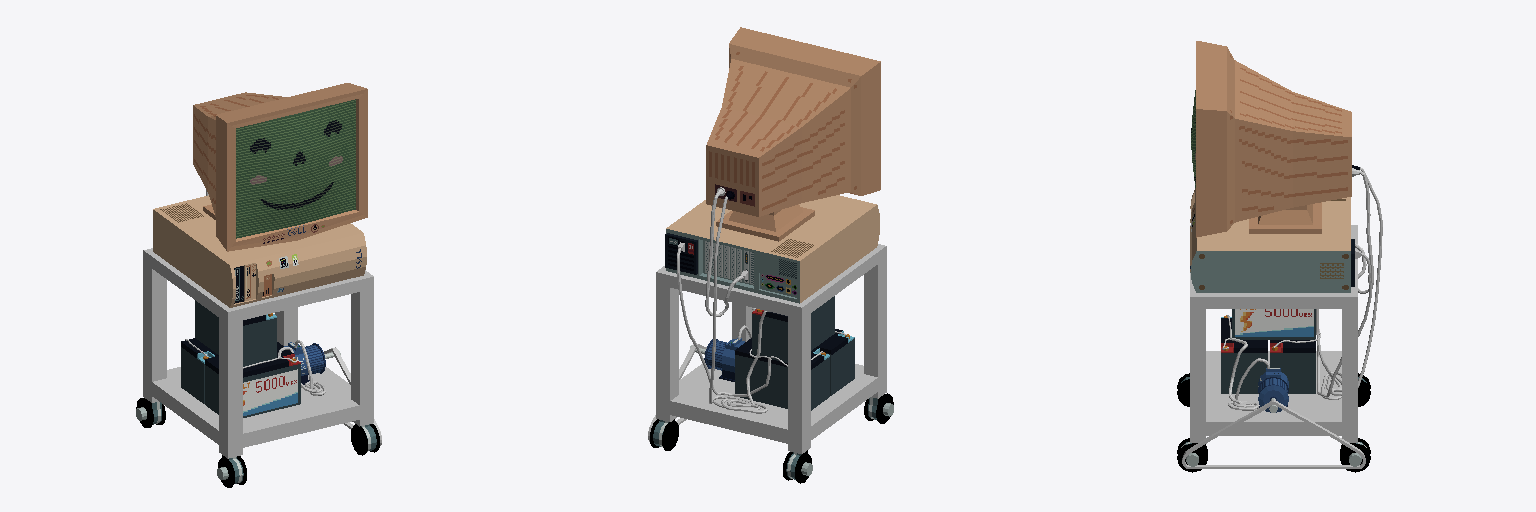
The picture shows the model from 3 angles: view 1: azimuth 30°, elevation 25°; view 2: azimuth 150°, elevation 25°; view 3: azimuth 270°, elevation 25°; orthographic projection.
Visible parts, largest first — view 1: Cart_Cube.001, Screen_Cube.007, Computer_Cube.005, Monitor_Cube, Battery_Cube.002, Battery.002_Cube.002, Casters_Cylinder.002, Battery.001_Cube.002, Motor_Cylinder.001, Cabnle_Plane; view 2: Monitor_Cube, Cart_Cube.001, Computer_Cube.005, Battery.001_Cube.002, Cabnle_Plane, Battery.002_Cube.002, Casters_Cylinder.002, Battery_Cube.002, Motor_Cylinder.001; view 3: Monitor_Cube, Cart_Cube.001, Computer_Cube.005, Cabnle_Plane, Battery.002_Cube.002, Battery_Cube.002, Battery.001_Cube.002, Casters_Cylinder.002, Chain_Cube.004, Motor_Cylinder.001.
Boxes of the visible parts, x1,y1,x2,y2 form: Cart_Cube.001: [143, 248, 373, 458]; Screen_Cube.007: [236, 99, 355, 238]; Computer_Cube.005: [153, 195, 366, 307]; Monitor_Cube: [193, 83, 367, 251]; Battery_Cube.002: [205, 342, 300, 417]; Battery.002_Cube.002: [195, 300, 276, 366]; Casters_Cylinder.002: [136, 398, 379, 487]; Battery.001_Cube.002: [181, 338, 218, 403]; Motor_Cylinder.001: [284, 342, 340, 384]; Cabnle_Plane: [185, 190, 325, 395]; Monitor_Cube: [706, 27, 880, 241]; Cart_Cube.001: [656, 244, 886, 453]; Computer_Cube.005: [665, 195, 879, 303]; Battery.001_Cube.002: [735, 338, 829, 410]; Cabnle_Plane: [677, 187, 846, 413]; Battery.002_Cube.002: [752, 296, 834, 362]; Casters_Cylinder.002: [650, 393, 893, 483]; Battery_Cube.002: [816, 329, 854, 395]; Motor_Cylinder.001: [690, 338, 744, 381]; Monitor_Cube: [1196, 41, 1359, 237]; Cart_Cube.001: [1190, 225, 1357, 442]; Computer_Cube.005: [1190, 188, 1354, 292]; Cabnle_Plane: [1222, 167, 1382, 410]; Battery.002_Cube.002: [1232, 309, 1315, 339]; Battery_Cube.002: [1221, 315, 1267, 393]; Battery.001_Cube.002: [1270, 340, 1315, 393]; Casters_Cylinder.002: [1177, 373, 1370, 472]; Chain_Cube.004: [1182, 400, 1365, 468]; Motor_Cylinder.001: [1258, 368, 1288, 412].
Bounding box in the file's own units: 1.17 × 2.55 × 1.32.
9 materials, 6 textured.